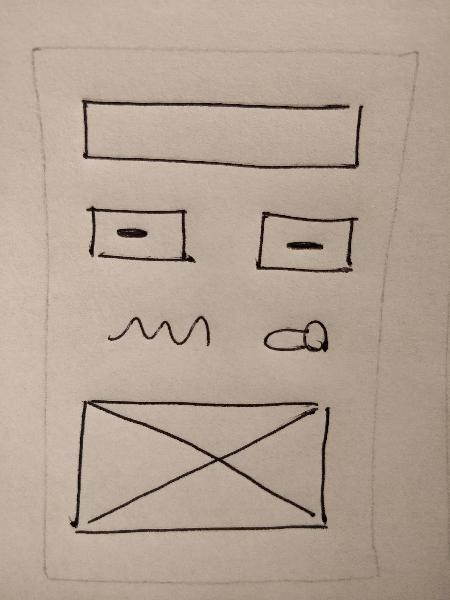button: (76, 197, 205, 276), (247, 204, 366, 283)
image: (65, 397, 339, 537)
switch: (252, 313, 341, 363)
text: (101, 304, 219, 352)
text_input: (70, 92, 367, 179)
